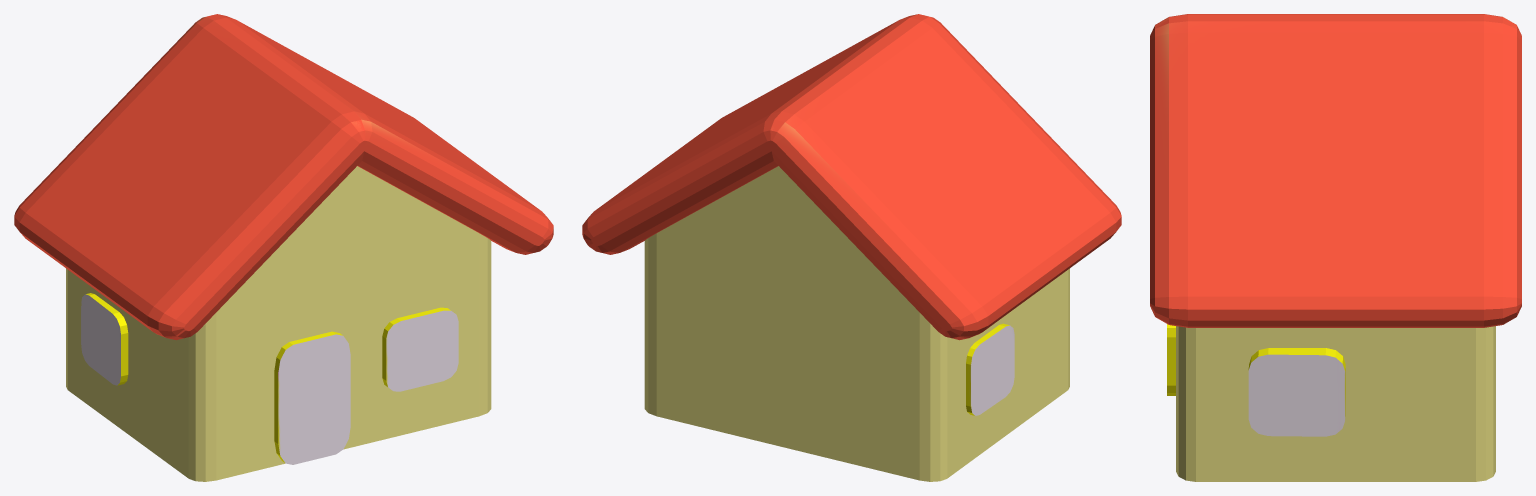
The model's file is CASA3.fbx.
The picture shows the model from 3 angles, left to right: view 1: azimuth 30°, elevation 25°; view 2: azimuth 150°, elevation 25°; view 3: azimuth 270°, elevation 25°; orthographic projection. The views are drawn at different scales.
Parts seen in each view (by area): view 1: Cube.001; view 2: Cube.001; view 3: Cube.001.
Part boxes in pixels (left/top/right/bottom): Cube.001: left=14, top=14, right=553, bottom=481; Cube.001: left=582, top=14, right=1121, bottom=481; Cube.001: left=1150, top=14, right=1521, bottom=481.
Size of the model in its own units: 698 by 550 by 485.
